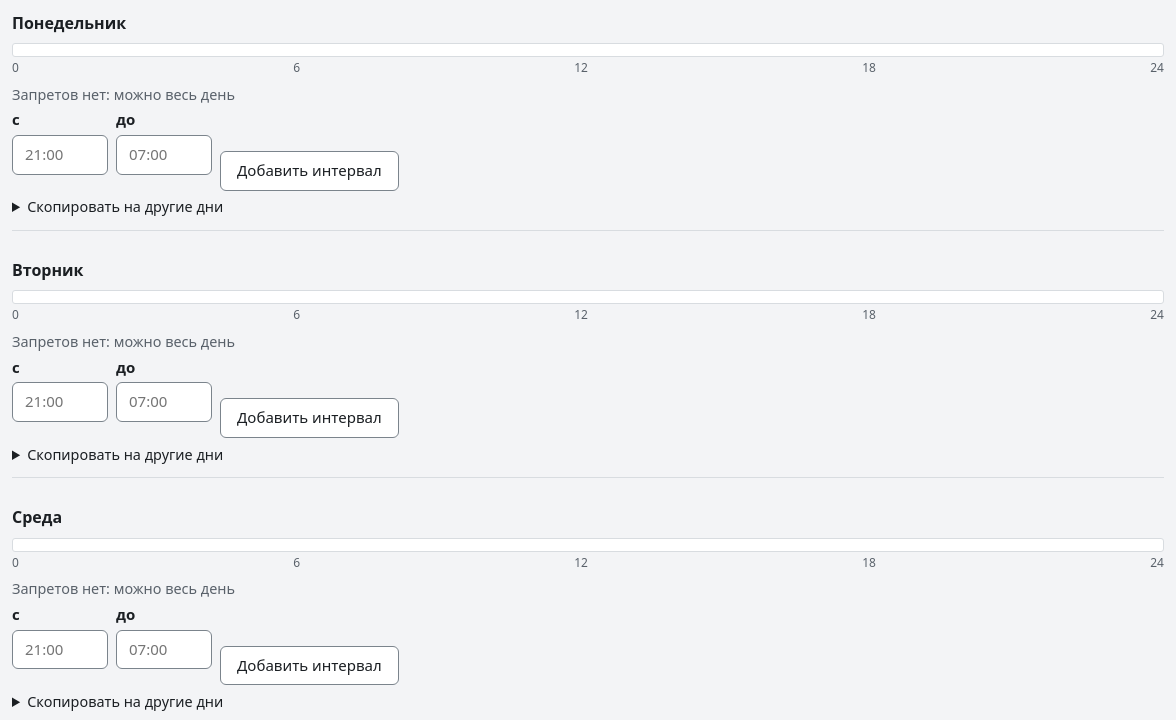
Test: ScheduleEditor › поле времени принимает только цифры в пределах часов и минут
Step 1. Type "а2б5в9" into the field named "Начало запретного времени" → (60, 155), box x1=12 y1=135 x2=108 y2=175
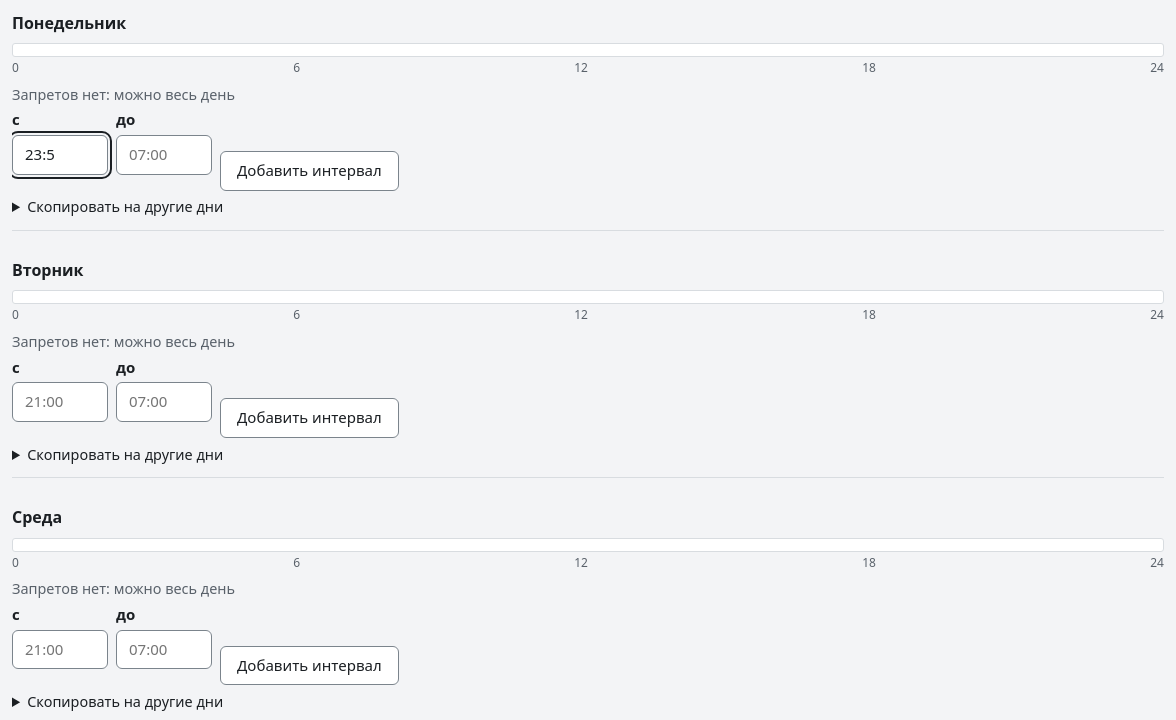
Check: the field named "Начало запретного времени" holds "23:5", box x1=12 y1=135 x2=108 y2=175
